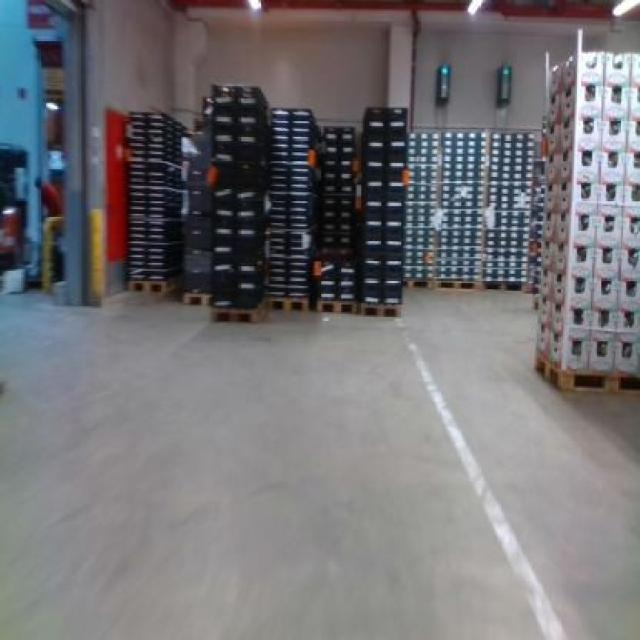floor: (0, 289, 637, 637)
pallets: (534, 51, 637, 389), (403, 128, 532, 285), (125, 111, 182, 278), (358, 106, 403, 312)
